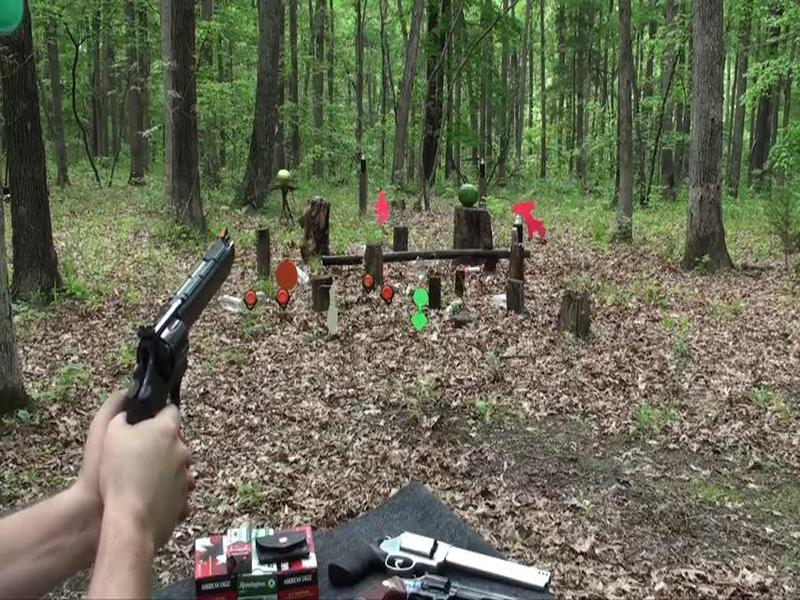Revolver: (111, 237, 242, 455)
